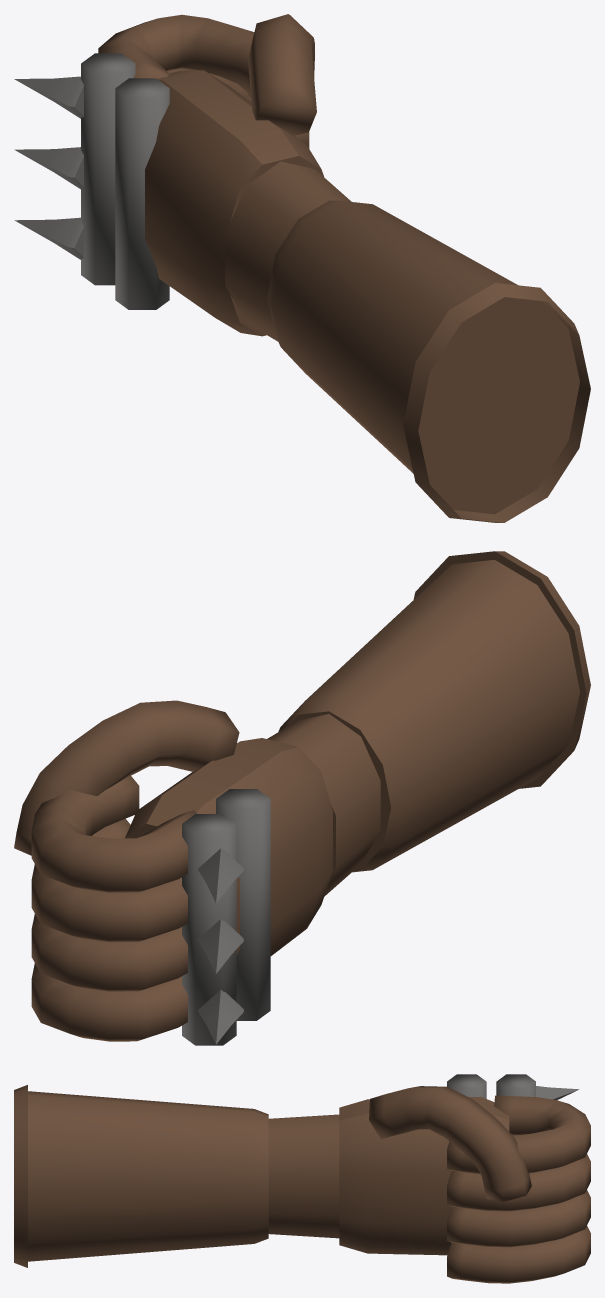
File: cestus.glb
3 views of the same model, one above another, from view 1: azimuth 30°, elevation 25°; view 2: azimuth 150°, elevation 25°; view 3: azimuth 270°, elevation 25° (orthographic). The views are drawn at different scales.
Parts seen in each view (by area): view 1: cestus; view 2: cestus; view 3: cestus.
Boxes of the visible parts, x1=… form: cestus: x1=14, y1=14, x2=590, y2=522; cestus: x1=14, y1=551, x2=590, y2=1045; cestus: x1=14, y1=1074, x2=590, y2=1283.
Bounding box in the file's own units: 0.1465 × 0.1566 × 0.4078.
